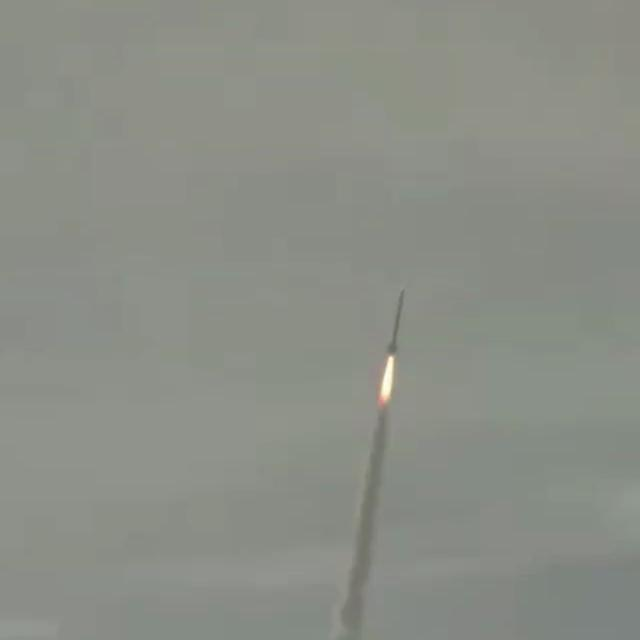smoke_trail_with_rocket: (334, 290, 406, 640)
